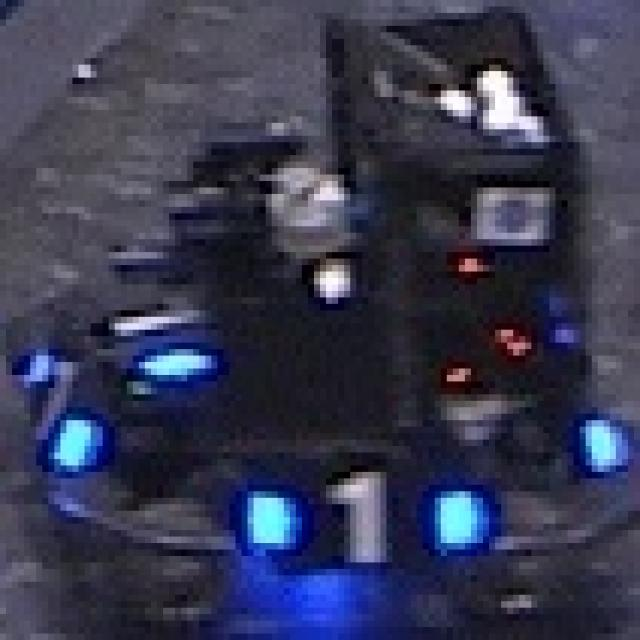B1: (254, 466, 483, 562), (103, 284, 217, 388), (24, 342, 97, 478)
